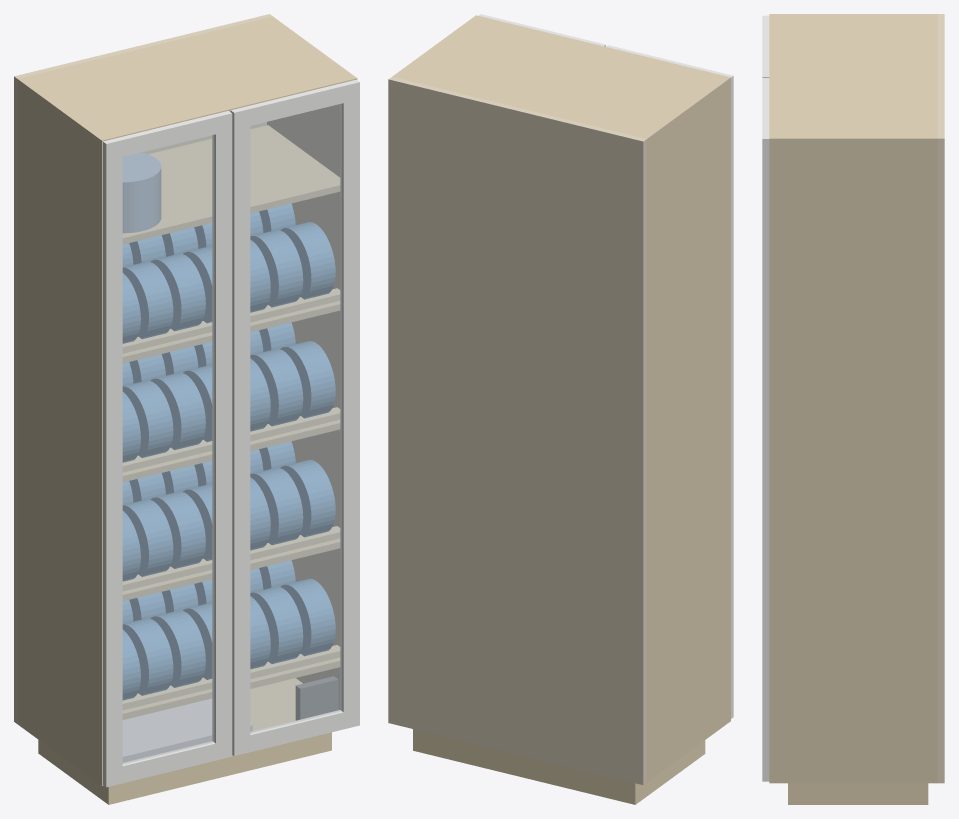
File: spool-cabinet-closed.glb
3 views of the same model, side by side, from view 1: azimuth 30°, elevation 25°; view 2: azimuth 150°, elevation 25°; view 3: azimuth 270°, elevation 25° (orthographic).
Parts seen in each view (by area): view 1: Case/side left, Door Left/tempered glass 4 mm, Door Right/tempered glass 4 mm, Case/top, Door Left/stile latch side, Door Left/stile hinge side, Door Right/stile hinge side, Door Right/stile latch side, Case/side right, Shelves/cubby shelf, Plinth/front 2x4, Case/back (+58 smaller); view 2: Case/back, Case/side left, Case/top, Plinth/back 2x4, Door Left/stile hinge side, Plinth/cross 2x4 1; view 3: Case/side right, Case/top, Case/back, Door Right/stile hinge side, Plinth/cross 2x4 3, Case/side left, Door Right/rail top, Door Left/rail top.
Boxes of the visible parts, <box> form: Case/side left: <box>17,77,107,785</box>; Door Left/tempered glass 4 mm: <box>123,135,214,764</box>; Door Right/tempered glass 4 mm: <box>250,104,341,733</box>; Case/top: <box>24,18,351,139</box>; Door Left/stile latch side: <box>212,111,232,760</box>; Door Left/stile hinge side: <box>103,137,122,787</box>; Door Right/stile hinge side: <box>340,79,359,729</box>; Door Right/stile latch side: <box>230,106,250,755</box>; Case/side right: <box>267,16,357,709</box>; Shelves/cubby shelf: <box>122,125,340,244</box>; Plinth/front 2x4: <box>101,732,331,804</box>; Case/back: <box>14,14,272,723</box>; Case/back: <box>388,77,646,785</box>; Case/side left: <box>641,76,730,782</box>; Case/top: <box>398,16,724,137</box>; Plinth/back 2x4: <box>413,729,642,804</box>; Door Left/stile hinge side: <box>715,72,733,718</box>; Plinth/cross 2x4 1: <box>642,745,698,799</box>; Case/side right: <box>769,135,937,783</box>; Case/top: <box>769,17,937,135</box>; Case/back: <box>937,14,944,783</box>; Door Right/stile hinge side: <box>762,131,769,781</box>; Plinth/cross 2x4 3: <box>802,783,914,804</box>; Case/side left: <box>769,14,937,16</box>; Door Right/rail top: <box>762,85,769,131</box>; Door Left/rail top: <box>762,23,769,68</box>.
Bounding box in the file's own units: 31.5 × 79.5 × 19.5.
